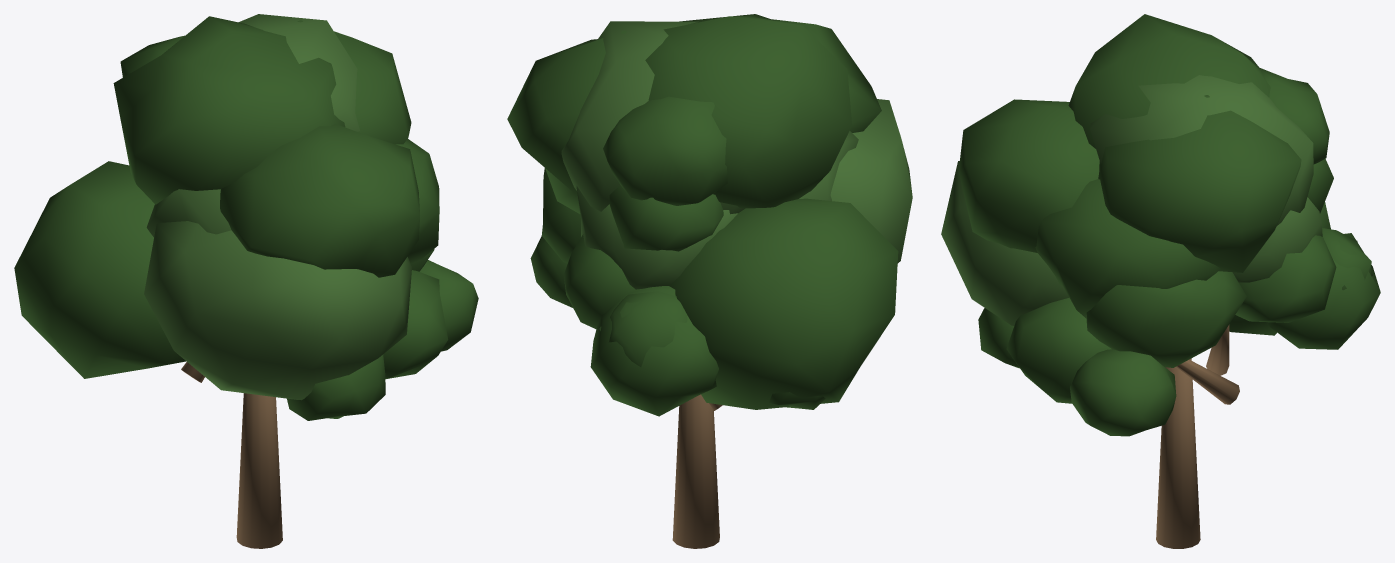
File: oak.glb
3 renders of one model, left to right at view 1: azimuth 30°, elevation 25°; view 2: azimuth 150°, elevation 25°; view 3: azimuth 270°, elevation 25°, orthographic. The views are drawn at different scales.
Parts seen in each view (by area): view 1: Branch0; view 2: Branch0; view 3: Branch0.
Boxes of the visible parts, box(x1,y1,x2,y2) form: Branch0: box(14, 14, 478, 548); Branch0: box(507, 14, 912, 548); Branch0: box(941, 14, 1380, 548).
Bounding box in the file's own units: 6.48 × 8.29 × 6.72.
